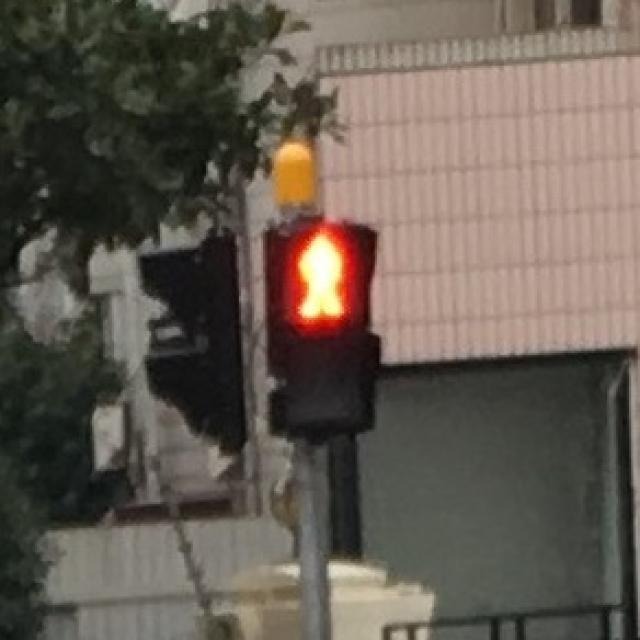red-light: (275, 227, 369, 332)
